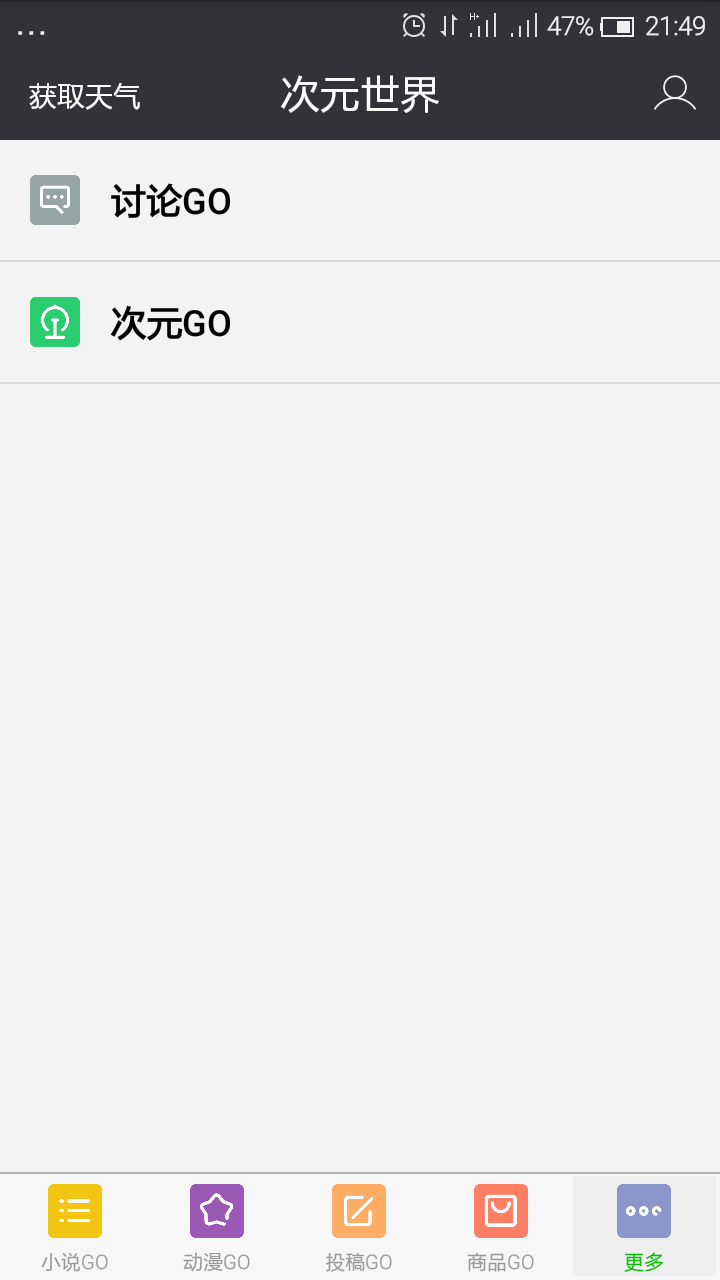nav: (19, 1163, 719, 1276)
textview: (28, 153, 720, 388), (22, 69, 719, 157)
